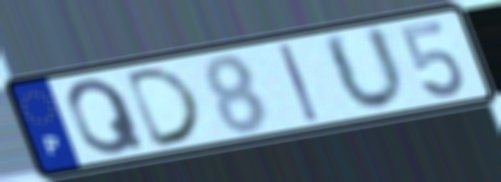5: (396, 16, 468, 101)
8: (201, 51, 272, 136)
D: (122, 63, 206, 151)
I: (274, 41, 323, 125)
Q: (64, 75, 150, 157)
U: (318, 23, 410, 114)
